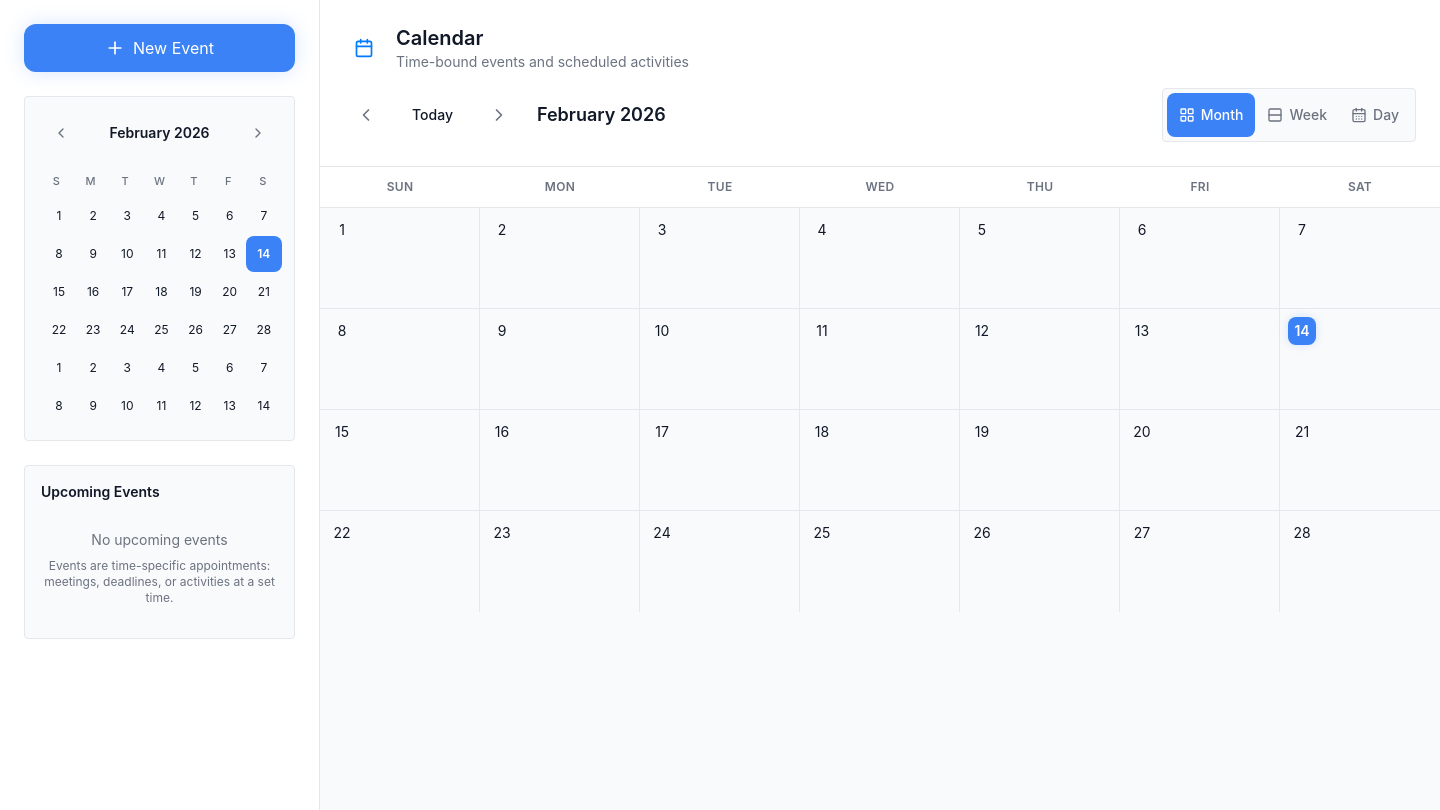
CalendarView › View Switching › switches to week view when Week button is clicked
What coordinates should you click on to do the following:
click the button "Week"
I would click on:
 (1297, 115)
Its box is [1256,93,1339,137].
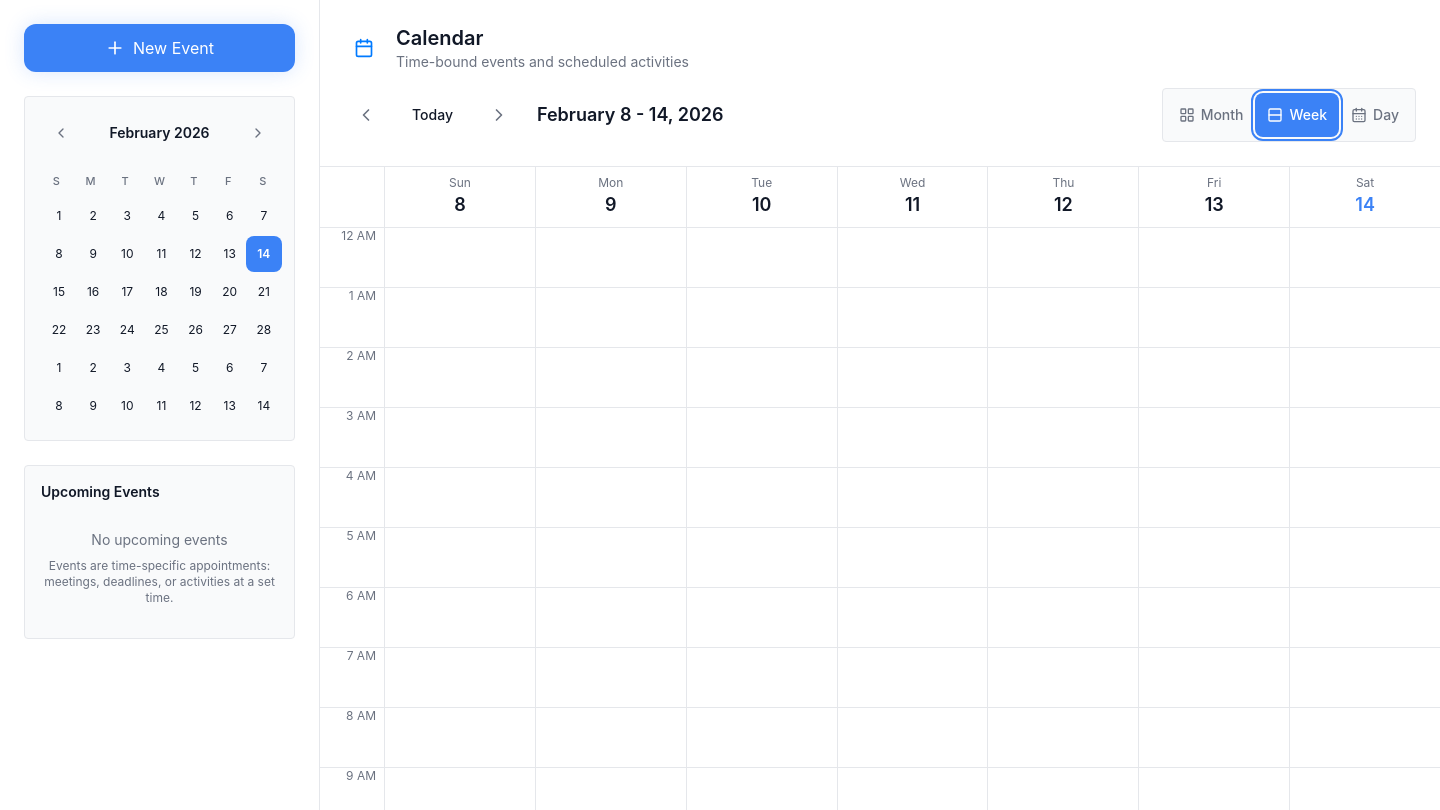
Check: the text "12 AM" is shown, box [320,228,384,288]
